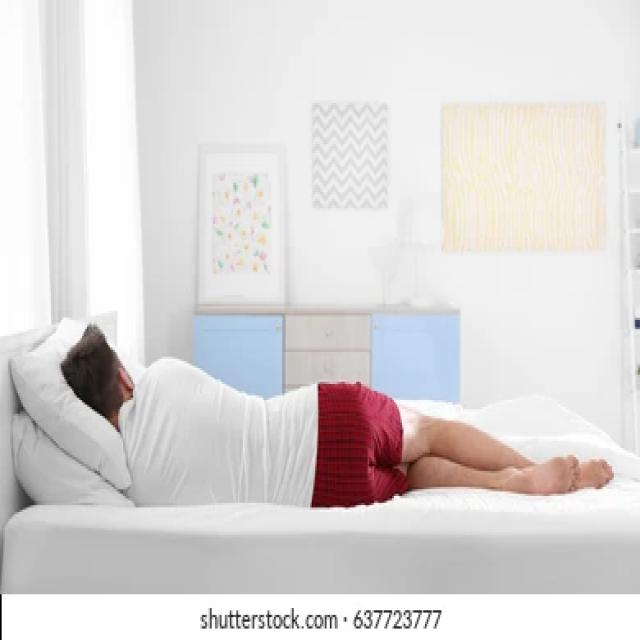sleeping-person: (49, 304, 620, 532)
